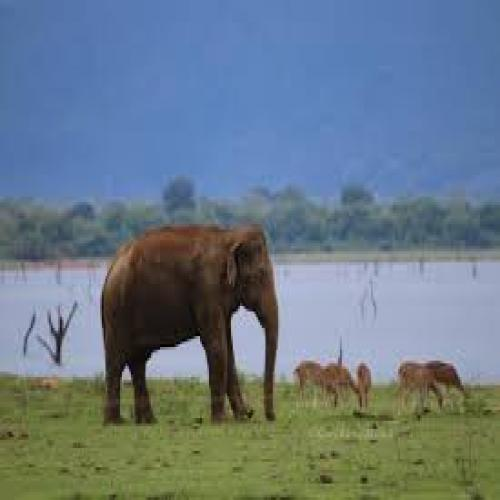asian_elephant-endangered: (98, 226, 277, 424)
